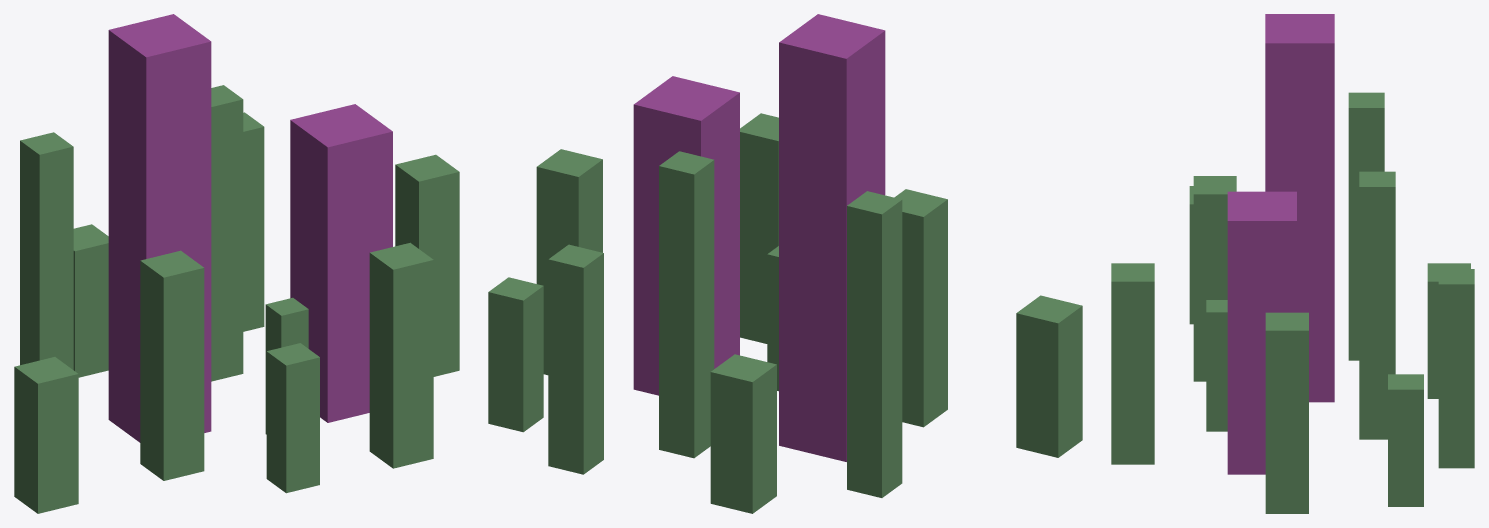
Rendered from PlantB_002.fbx.
3 views of the same model, side by side, from view 1: azimuth 30°, elevation 25°; view 2: azimuth 150°, elevation 25°; view 3: azimuth 270°, elevation 25° (orthographic). The views are drawn at different scales.
Visible parts, largest first — view 1: PlantB_002; view 2: PlantB_002; view 3: PlantB_002.
Boxes of the visible parts, x1,y1,x2,y2 form: PlantB_002: (14,14,459,513); PlantB_002: (488,14,1082,513); PlantB_002: (1111,14,1474,513).
Size of the model in its own units: 0.4533 by 0.3648 by 0.3344.
